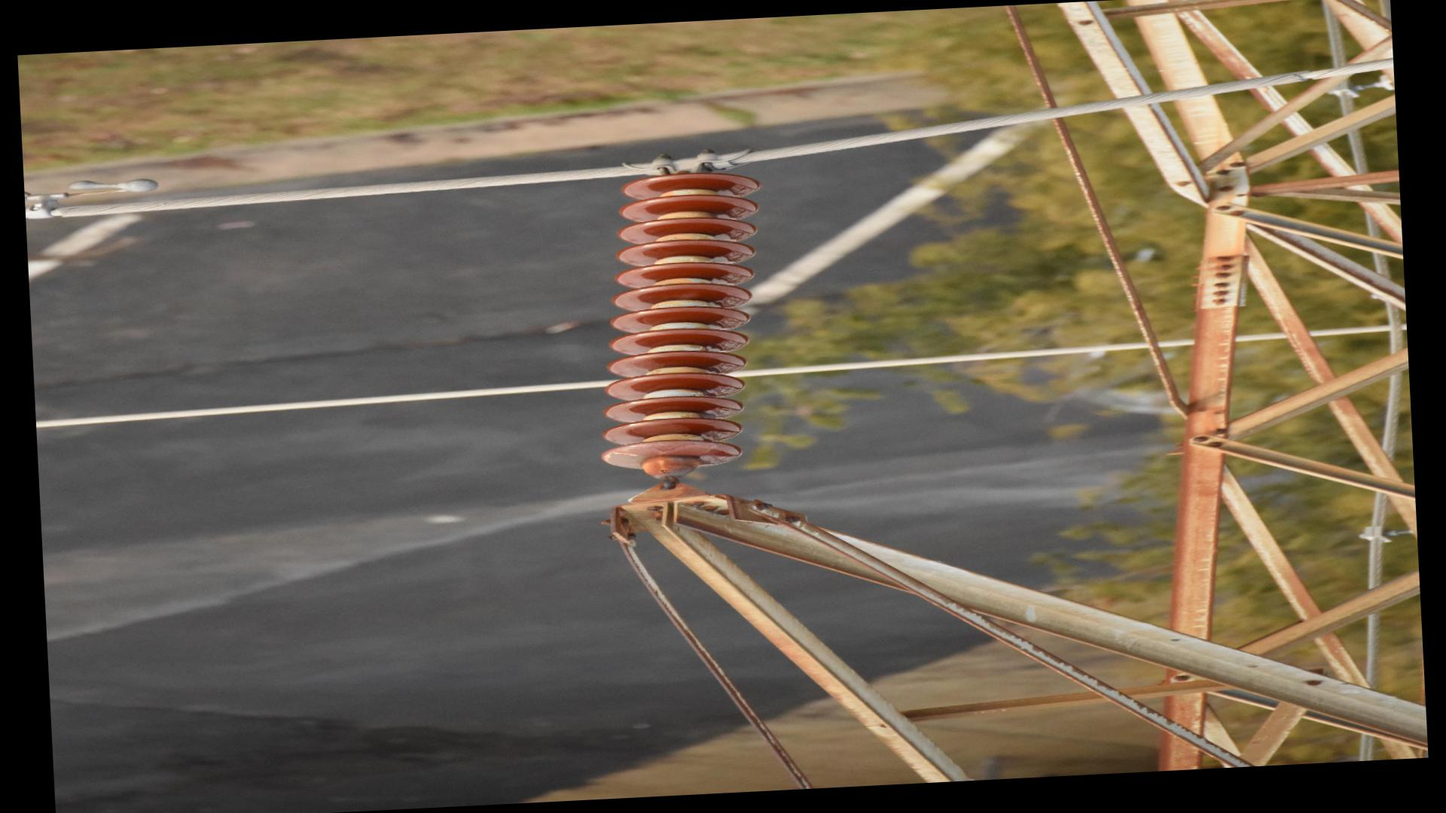damper: (24, 172, 163, 224)
